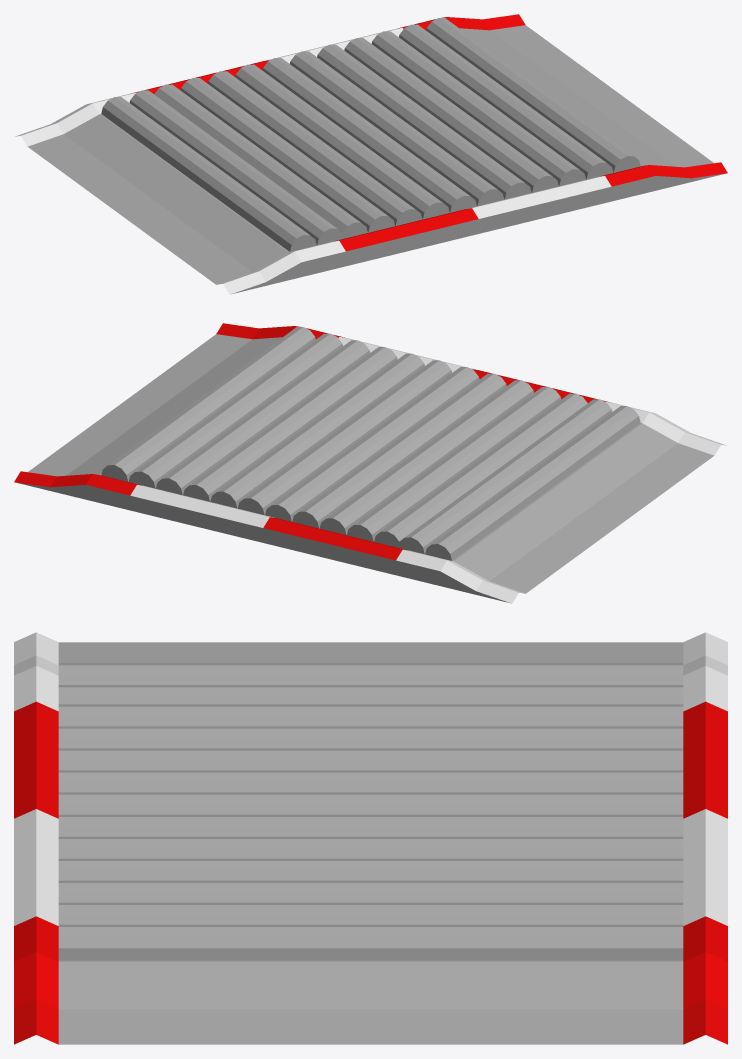
File: Road_Grebenka.fbx
3 views of the same model, one above another, from view 1: azimuth 30°, elevation 25°; view 2: azimuth 150°, elevation 25°; view 3: azimuth 270°, elevation 25° (orthographic). The views are drawn at different scales.
Parts seen in each view (by area): view 1: Road_Grebenka; view 2: Road_Grebenka; view 3: Road_Grebenka.
Boxes of the visible parts, <box> form: Road_Grebenka: <box>15,14,727,294</box>; Road_Grebenka: <box>14,323,726,603</box>; Road_Grebenka: <box>14,632,727,1044</box>.
Bounding box in the file's own units: 300 × 16.43 × 225.
